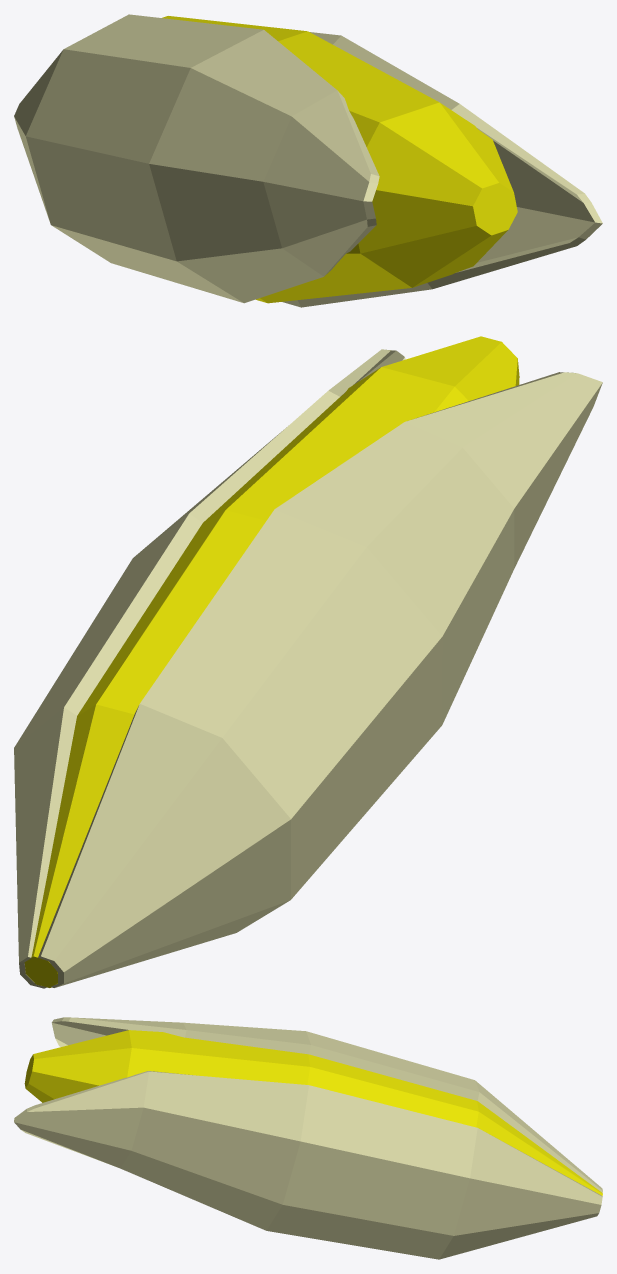
The model's file is corn_ear.fbx.
The picture shows the model from 3 angles, top to bottom: view 1: azimuth 30°, elevation 25°; view 2: azimuth 150°, elevation 25°; view 3: azimuth 270°, elevation 25°; orthographic projection. The views are drawn at different scales.
Visible parts, largest first — view 1: Circle; view 2: Circle; view 3: Circle.
Part boxes in pixels (left/top/right/bottom): Circle: left=14, top=14, right=602, bottom=307; Circle: left=14, top=336, right=602, bottom=988; Circle: left=14, top=1017, right=602, bottom=1259.
Size of the model in its own units: 20.94 by 23.68 by 59.7.
